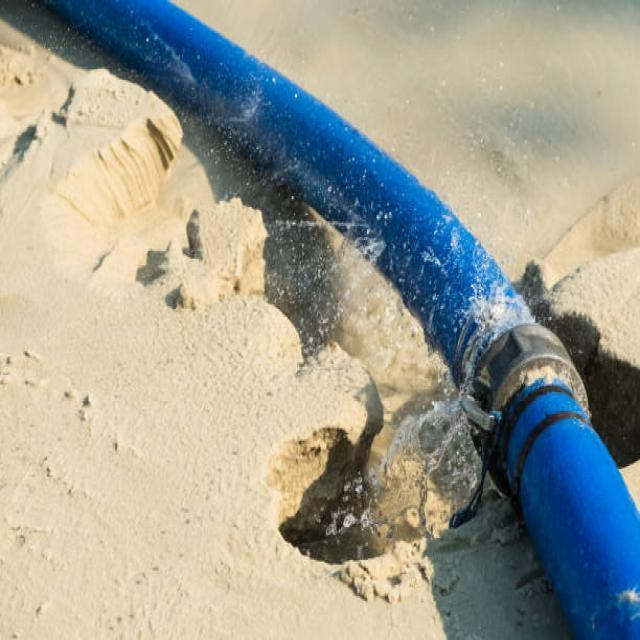pipe burst: (324, 284, 556, 552)
